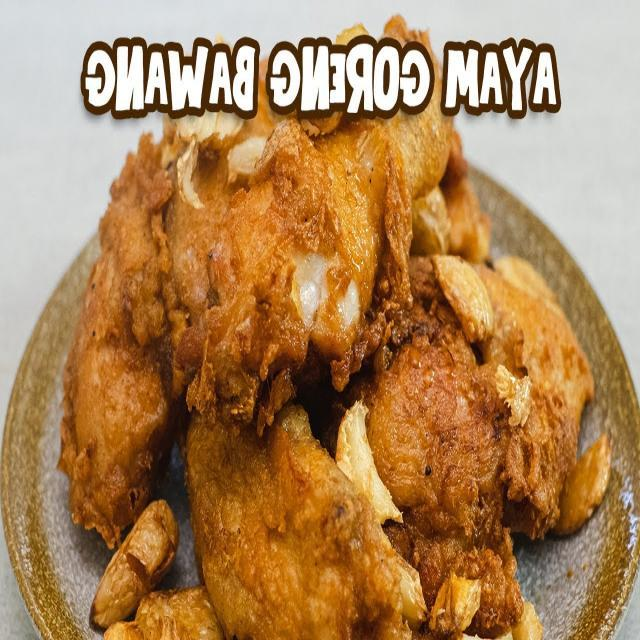ayam_goreng: (45, 56, 588, 624)
